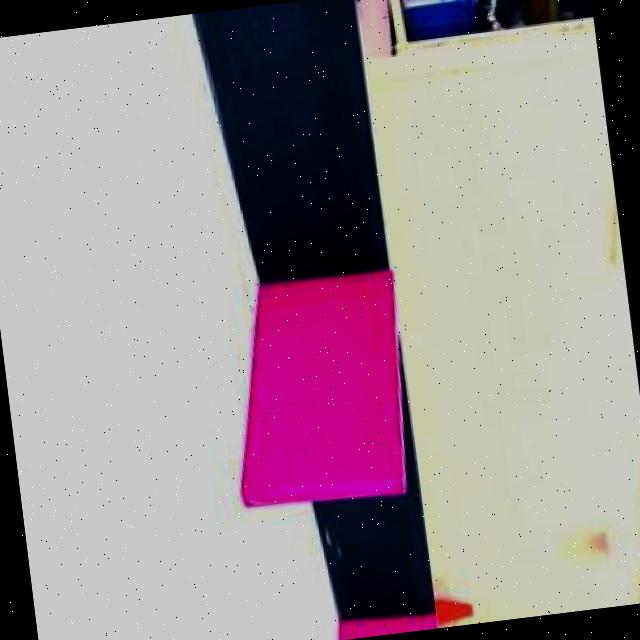xparking: (233, 273, 405, 507), (335, 613, 434, 640)
